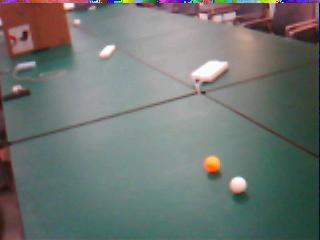oball: (204, 156, 220, 173)
